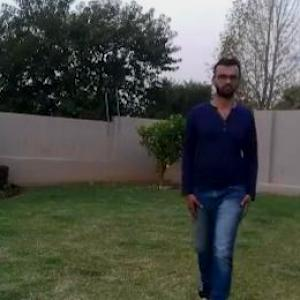follow: (180, 52, 256, 299)
